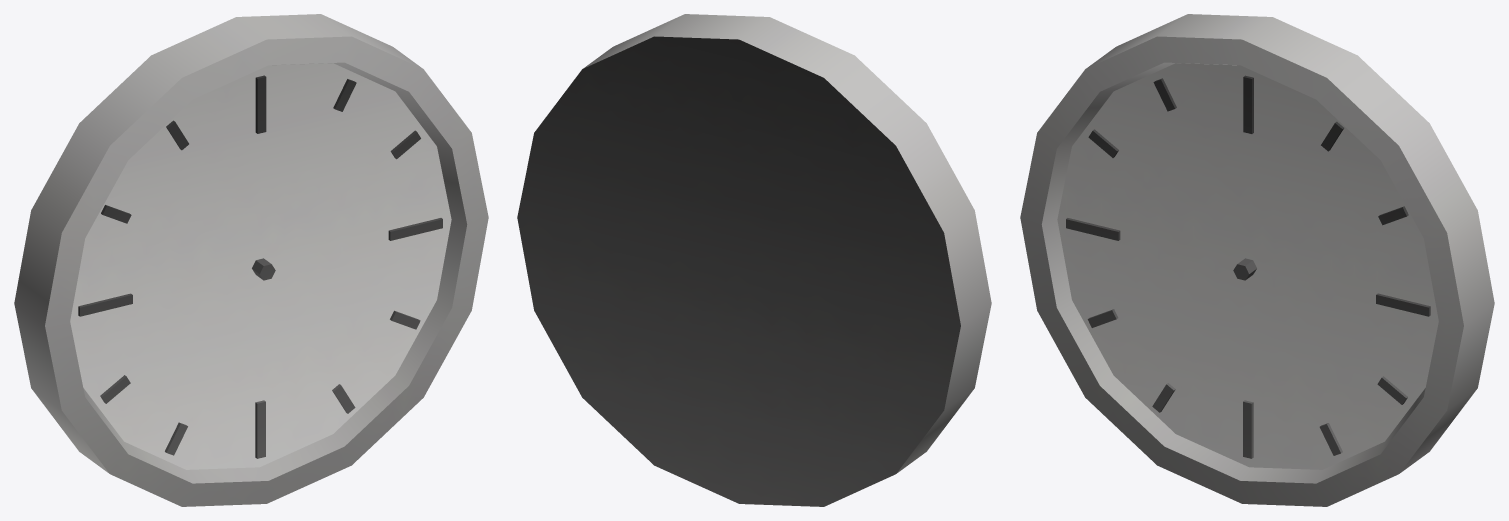
The model's file is Clock_WallClock.fbx.
3 views of the same model, side by side, from view 1: azimuth 30°, elevation 25°; view 2: azimuth 150°, elevation 25°; view 3: azimuth 330°, elevation 25° (orthographic).
Visible parts, largest first — view 1: Clock_WallClock; view 2: Clock_WallClock; view 3: Clock_WallClock.
Boxes of the visible parts, x1,y1,x2,y2 form: Clock_WallClock: (14,14,488,506); Clock_WallClock: (517,14,991,506); Clock_WallClock: (1020,14,1494,506).
Bounding box in the file's own units: 30.09 × 30.09 × 3.82.
